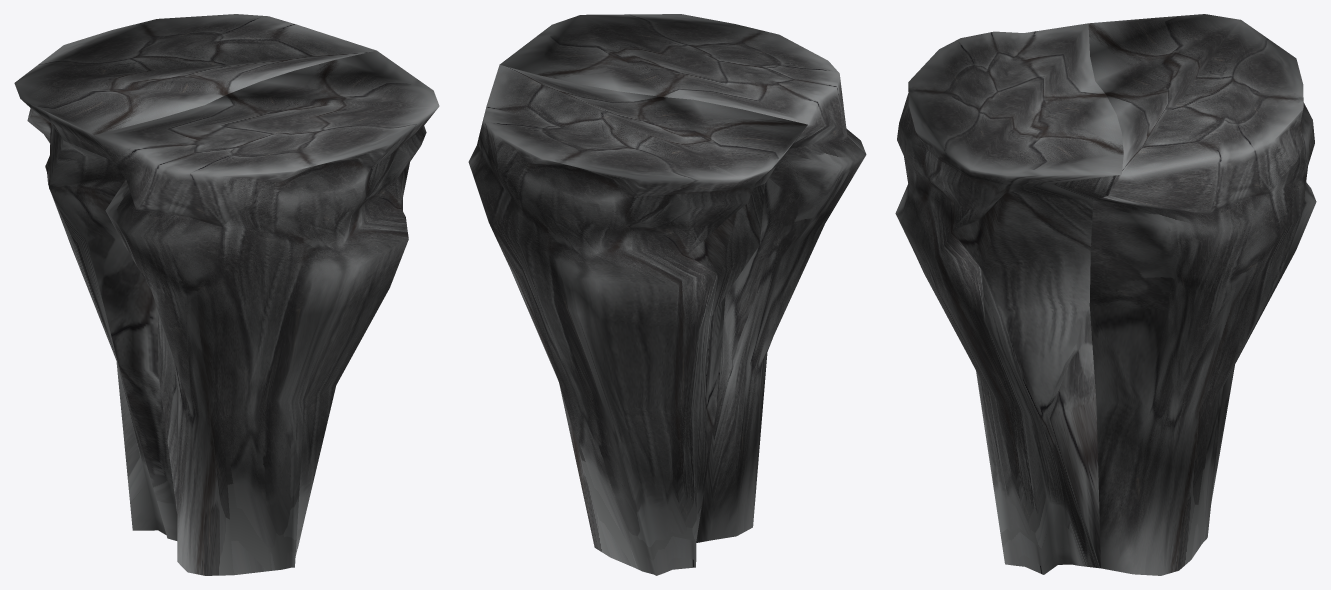
Rendered from Rock_2_003.fbx.
3 views of the same model, side by side, from view 1: azimuth 30°, elevation 25°; view 2: azimuth 150°, elevation 25°; view 3: azimuth 270°, elevation 25° (orthographic). The views are drawn at different scales.
Visible parts, largest first — view 1: rock2; view 2: rock2; view 3: rock2.
Boxes of the visible parts, bbox=[...] form: rock2: bbox=[14, 14, 439, 575]; rock2: bbox=[468, 14, 866, 575]; rock2: bbox=[895, 14, 1316, 575].
Bounding box in the file's own units: 2666 × 3537 × 2936.
